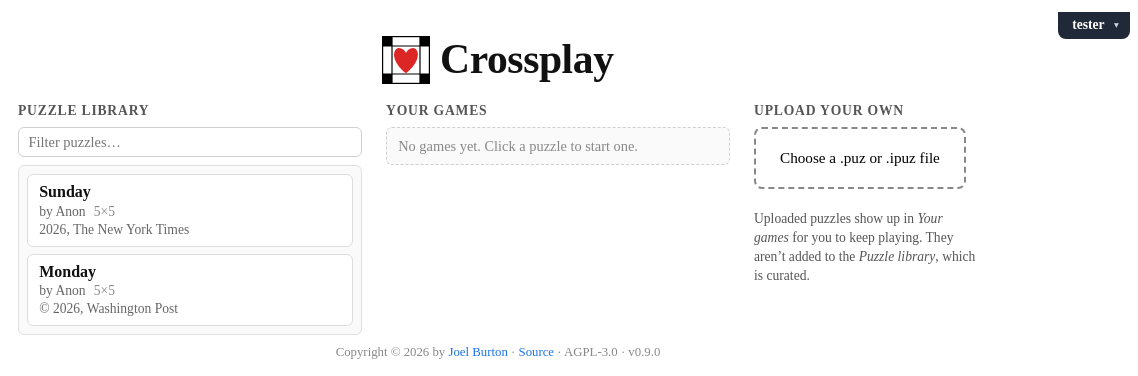
Test case: HomePage › filters the puzzle library by copyright (e.g. 'times' → NYT)
Type "times" into the search field named "Filter puzzle library" at (190, 142), box x1=18 y1=127 x2=362 y2=157
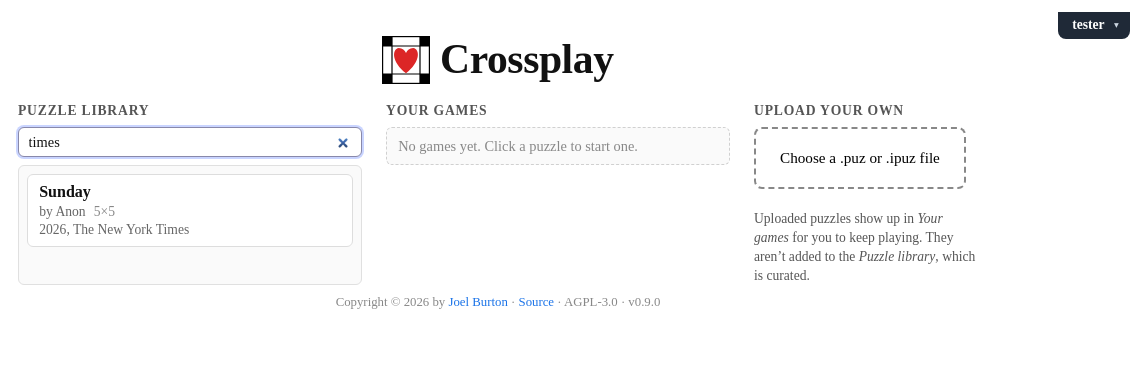
Expected: the text "Sunday" is shown, x1=39 y1=183 x2=91 y2=201
Expected: the button "Monday" is gone
